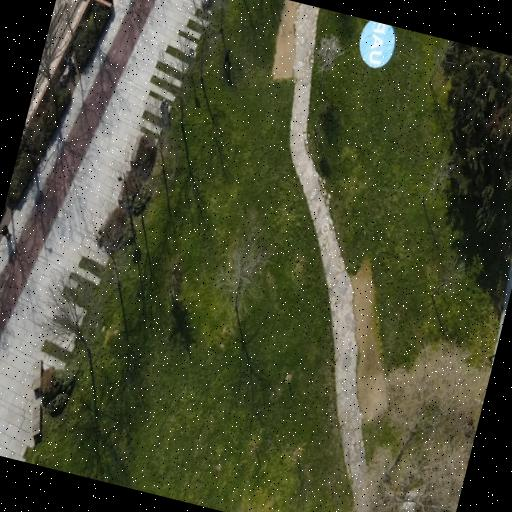car: (360, 21, 395, 68)
